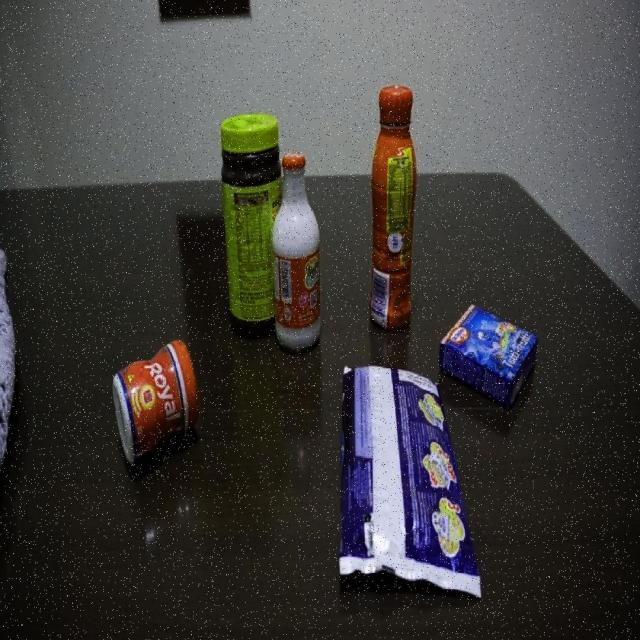ChocolateMilk: (369, 82, 417, 333)
ChocolatePowder: (220, 111, 287, 340)
CoconutMilk: (270, 150, 324, 356)
Gelatine: (439, 302, 539, 412)
Popcorn: (338, 365, 483, 602)
Yeast: (111, 338, 200, 470)
